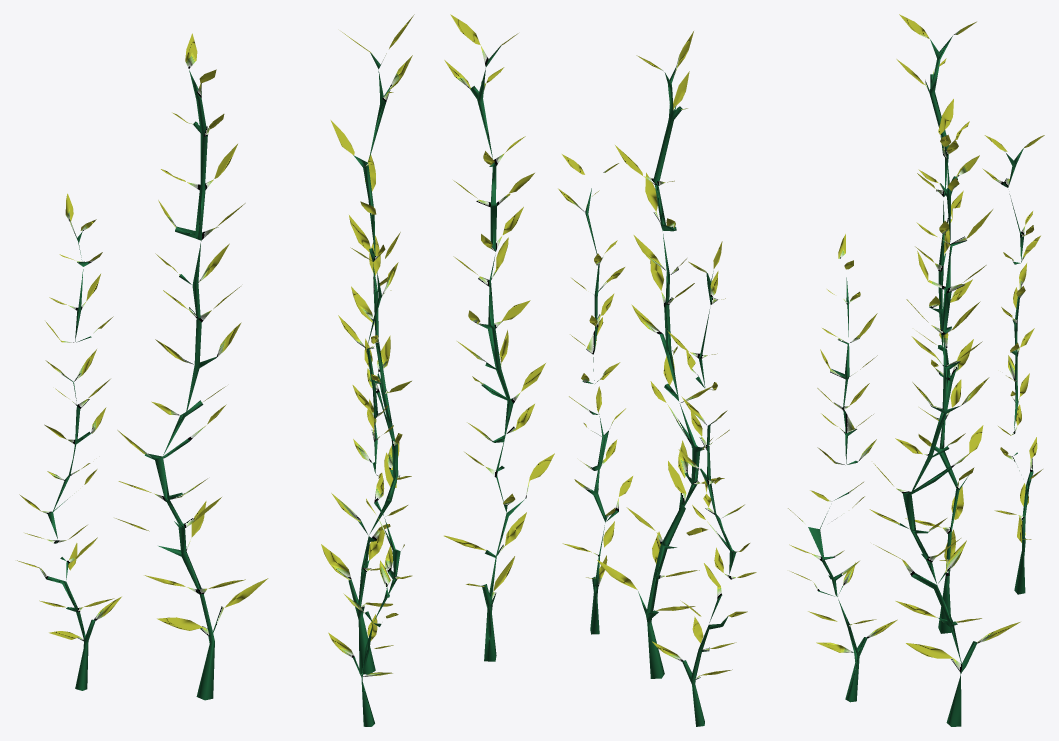
File: reka_trava_3.glb
3 views of the same model, side by side, from view 1: azimuth 30°, elevation 25°; view 2: azimuth 150°, elevation 25°; view 3: azimuth 270°, elevation 25° (orthographic). The views are drawn at different scales.
Parts seen in each view (by area): view 1: reka_trava_3; view 2: reka_trava_3; view 3: reka_trava_3.
Boxes of the visible parts, x1,y1,x2,y2 form: reka_trava_3: (17, 14, 414, 726); reka_trava_3: (444, 14, 756, 726); reka_trava_3: (788, 14, 1044, 726).
Bounding box in the file's own units: 1.93 × 3.47 × 1.29.
1 material, 1 textured.
